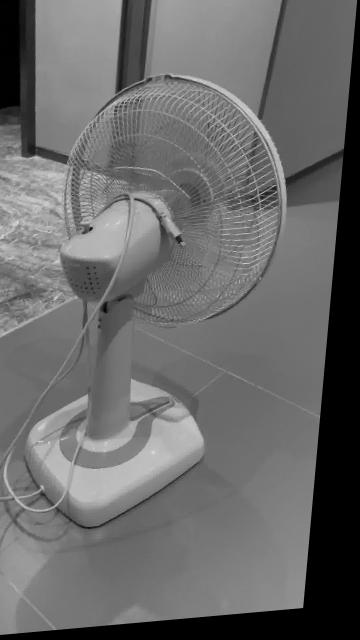Fan: (31, 79, 291, 534)
